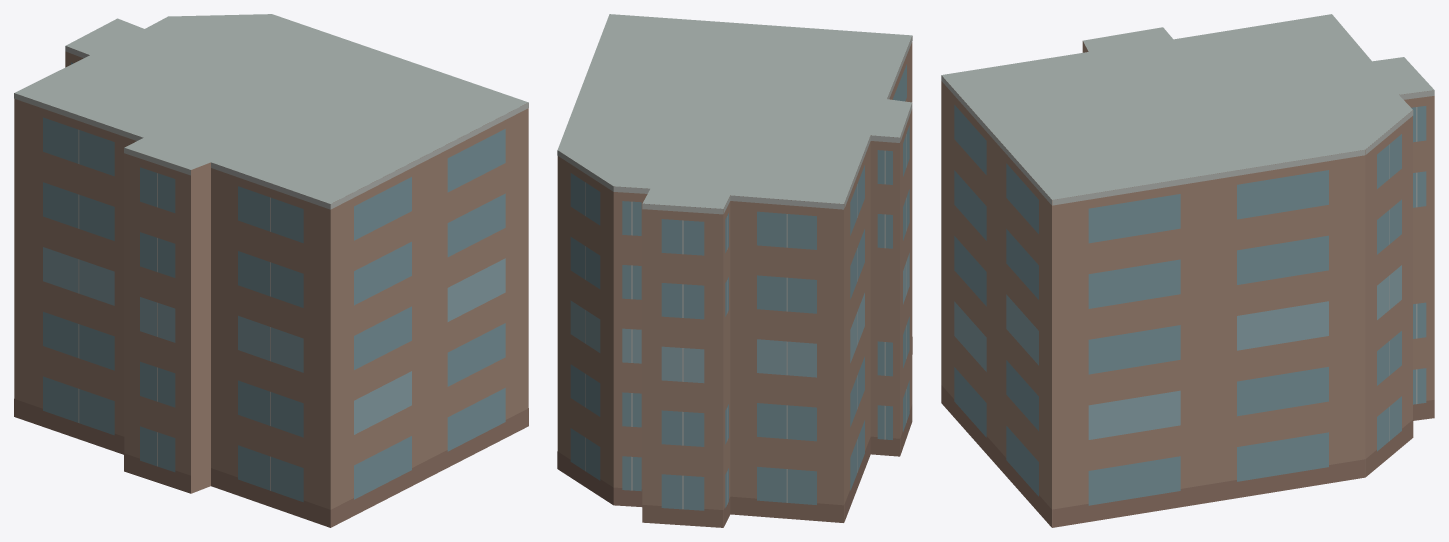
Rendered from survey-upis-32865135.glb.
3 views of the same model, side by side, from view 1: azimuth 30°, elevation 25°; view 2: azimuth 150°, elevation 25°; view 3: azimuth 270°, elevation 25° (orthographic). The views are drawn at different scales.
Parts seen in each view (by area): view 1: survey-upis-32865135.tmp; view 2: survey-upis-32865135.tmp; view 3: survey-upis-32865135.tmp.
Boxes of the visible parts, <box> form: survey-upis-32865135.tmp: <box>14,14,528,527</box>; survey-upis-32865135.tmp: <box>557,14,912,527</box>; survey-upis-32865135.tmp: <box>941,14,1434,527</box>.
Size of the model in its own units: 17.16 by 14.1 by 19.24.
